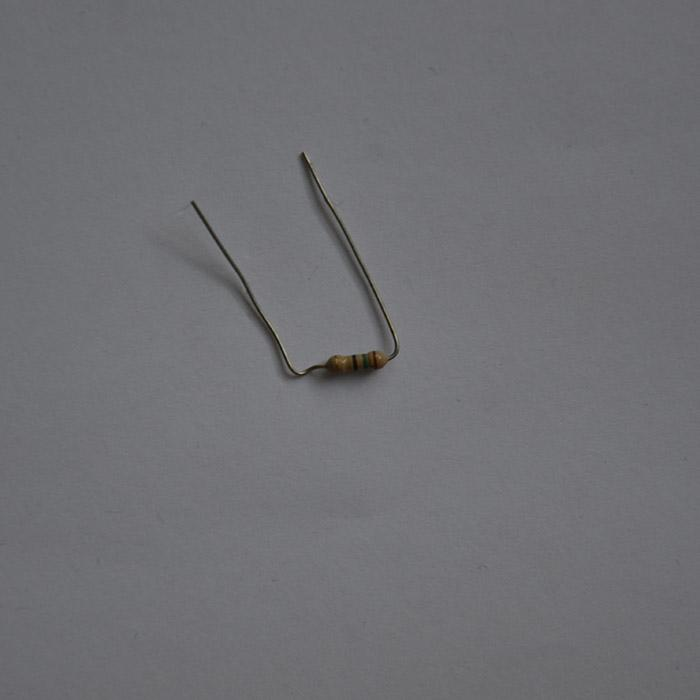resistor: (328, 349, 390, 373)
